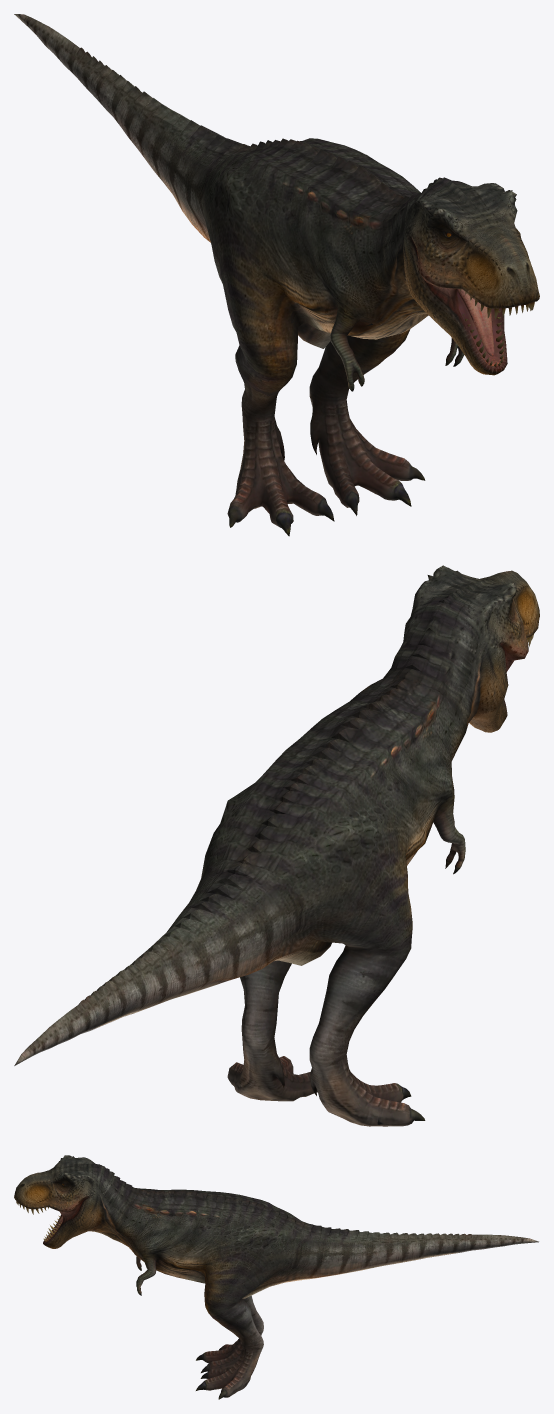
Rendered from trex-model.glb.
3 views of the same model, one above another, from view 1: azimuth 30°, elevation 25°; view 2: azimuth 150°, elevation 25°; view 3: azimuth 270°, elevation 25° (orthographic). The views are drawn at different scales.
Visible parts, largest first — view 1: polySurface55_Material #21_0, polySurface58_Material #22_0; view 2: polySurface55_Material #21_0, polySurface58_Material #22_0; view 3: polySurface55_Material #21_0, polySurface58_Material #22_0.
Boxes of the visible parts, x1=… form: polySurface55_Material #21_0: x1=14, y1=14, x2=464, y2=536; polySurface58_Material #22_0: x1=380, y1=177, x2=539, y2=375; polySurface55_Material #21_0: x1=14, y1=677, x2=465, y2=1126; polySurface58_Material #22_0: x1=383, y1=565, x2=539, y2=732; polySurface55_Material #21_0: x1=113, y1=1188, x2=538, y2=1399; polySurface58_Material #22_0: x1=14, y1=1155, x2=139, y2=1248.
Bounding box in the file's own units: 14.57 × 29.63 × 66.49.
2 materials, 2 textured.
